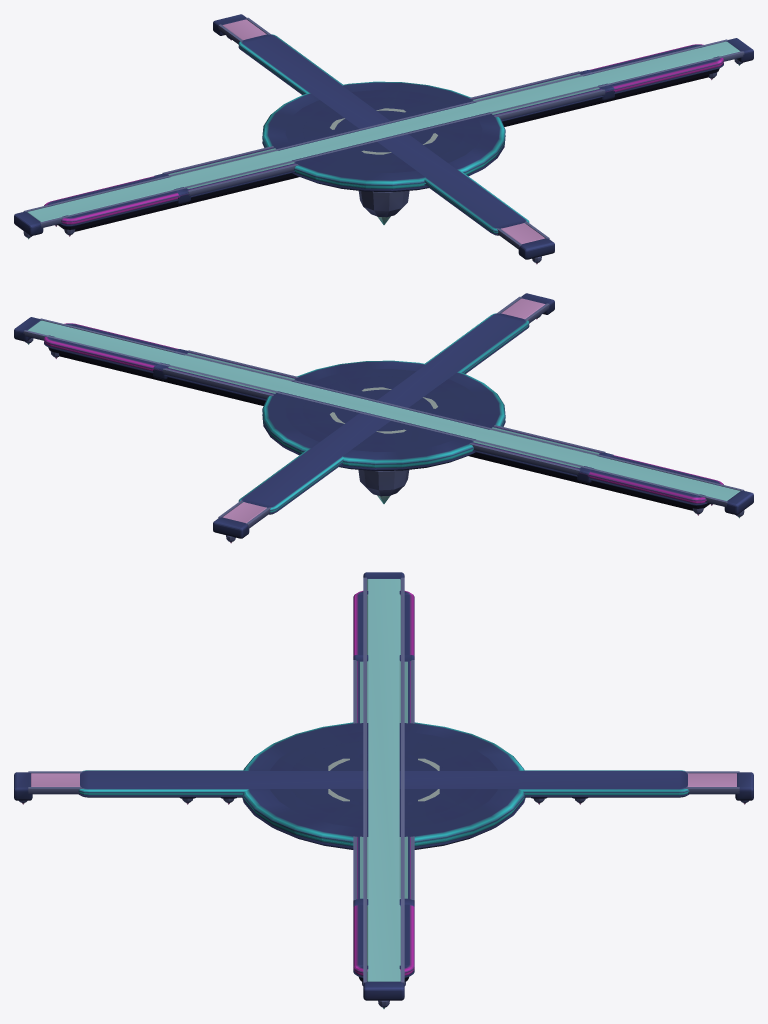
Rendered from core-3-ACrLGWAY.glb.
3 renders of one model, top to bottom at view 1: azimuth 30°, elevation 25°; view 2: azimuth 150°, elevation 25°; view 3: azimuth 270°, elevation 25°, orthographic. The views are drawn at different scales.
Parts seen in each view (by area): view 1: beam_48x1.5x2#0, block_2.5x2x30_grate#1, disc_14x1.5#0, block_44x2x3_grate#1, disc_10x1.5#0, beam_29x1.5x3#1, disc_12x1.5#1, beam_2x1.5x36#0; view 2: beam_48x1.5x2#0, block_2.5x2x30_grate#1, disc_14x1.5#0, block_44x2x3_grate#1, disc_10x1.5#0, beam_29x1.5x3#1, disc_12x1.5#1, beam_2x1.5x36#0; view 3: beam_48x1.5x2#0, block_2.5x2x30_grate#1, disc_14x1.5#0, disc_10x1.5#0, disc_12x1.5#1, block_44x2x3_grate#1, beam_2x1.5x36#0, beam_29x1.5x3#1.
Part boxes in pixels (box(x1,y1,x2,y2)): beam_48x1.5x2#0: box(14, 38, 753, 239); block_2.5x2x30_grate#1: box(238, 34, 529, 235); disc_14x1.5#0: box(262, 81, 505, 224); block_44x2x3_grate#1: box(44, 44, 724, 236); disc_10x1.5#0: box(303, 97, 464, 165); beam_29x1.5x3#1: box(154, 70, 614, 204); disc_12x1.5#1: box(285, 90, 482, 172); beam_2x1.5x36#0: box(213, 14, 554, 264); beam_48x1.5x2#0: box(14, 317, 753, 518); block_2.5x2x30_grate#1: box(238, 313, 529, 514); disc_14x1.5#0: box(262, 360, 505, 503); block_44x2x3_grate#1: box(43, 323, 723, 515); disc_10x1.5#0: box(303, 376, 464, 444); beam_29x1.5x3#1: box(153, 349, 613, 483); disc_12x1.5#1: box(285, 369, 482, 451); beam_2x1.5x36#0: box(213, 293, 554, 543); beam_48x1.5x2#0: box(363, 572, 404, 1008); block_2.5x2x30_grate#1: box(78, 770, 689, 797); disc_14x1.5#0: box(242, 722, 525, 849); disc_10x1.5#0: box(291, 740, 476, 819); disc_12x1.5#1: box(270, 731, 497, 828); block_44x2x3_grate#1: box(353, 590, 414, 985); beam_2x1.5x36#0: box(14, 771, 753, 804); beam_29x1.5x3#1: box(353, 655, 414, 906).
Size of the model in its own units: 48 by 5.96 by 36.
